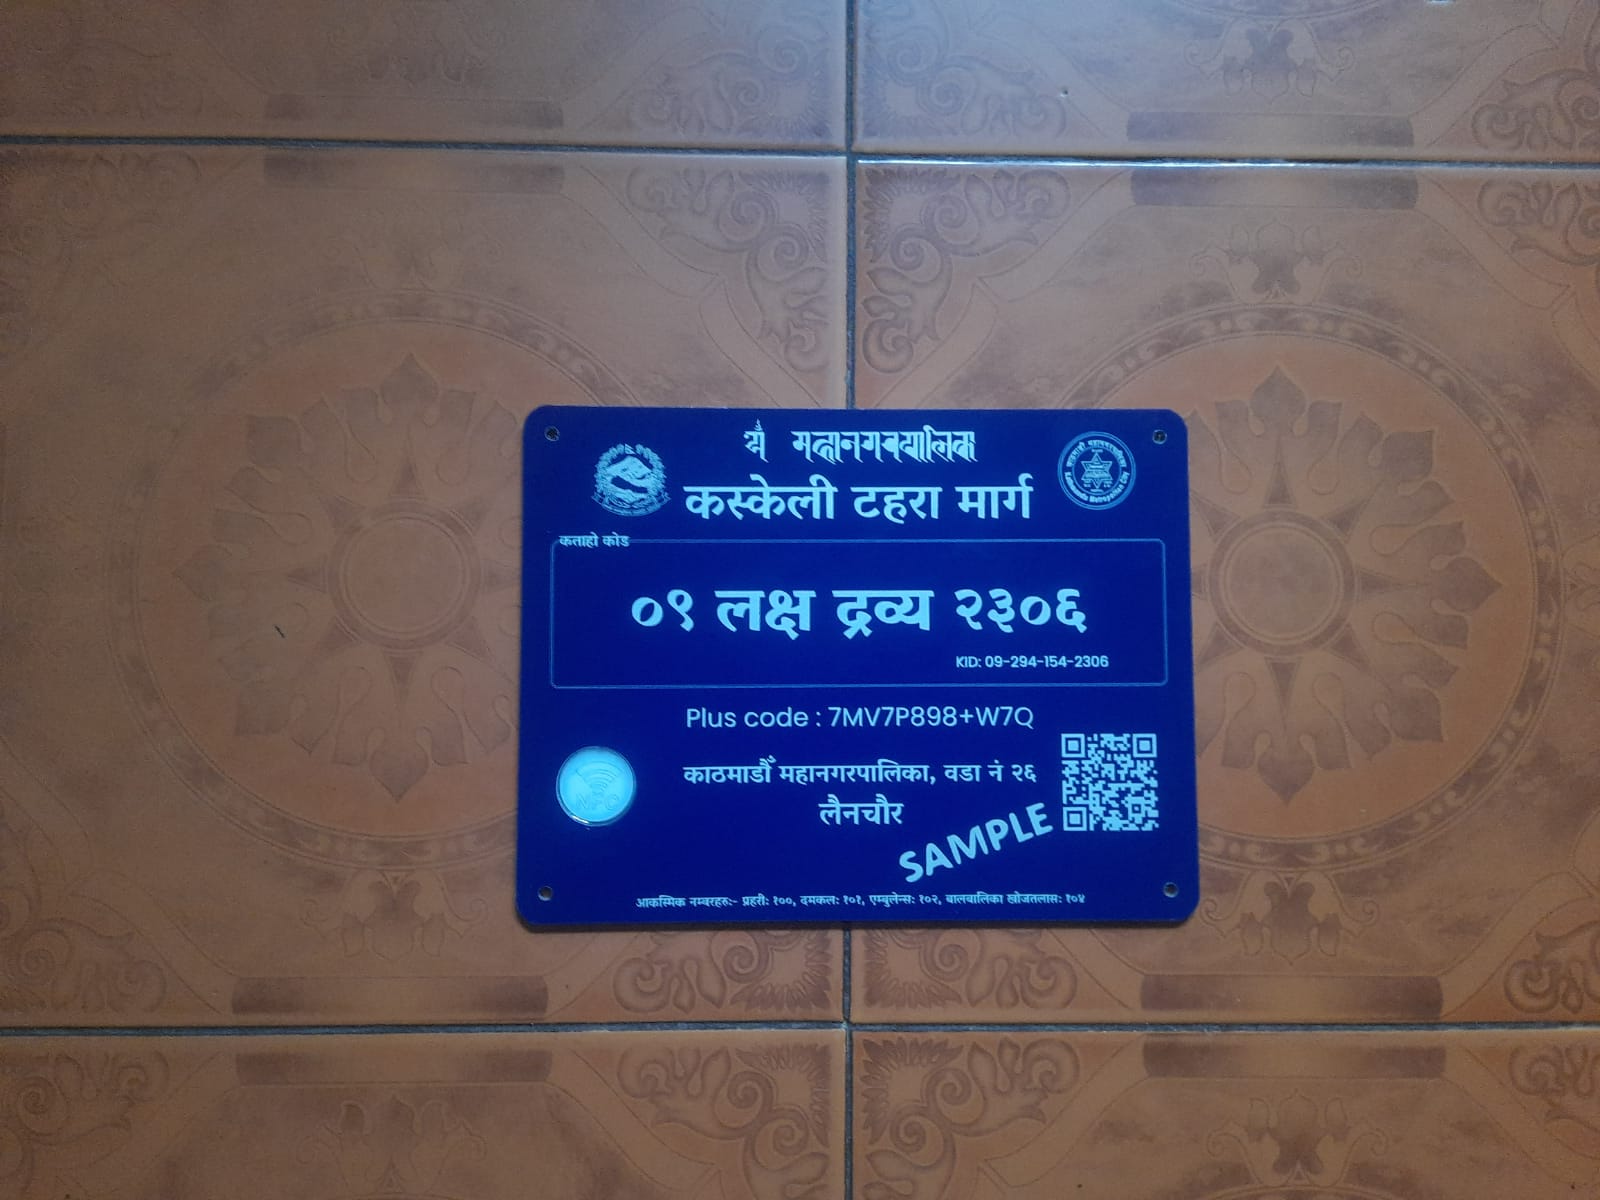Plate: (514, 399, 1204, 932)
